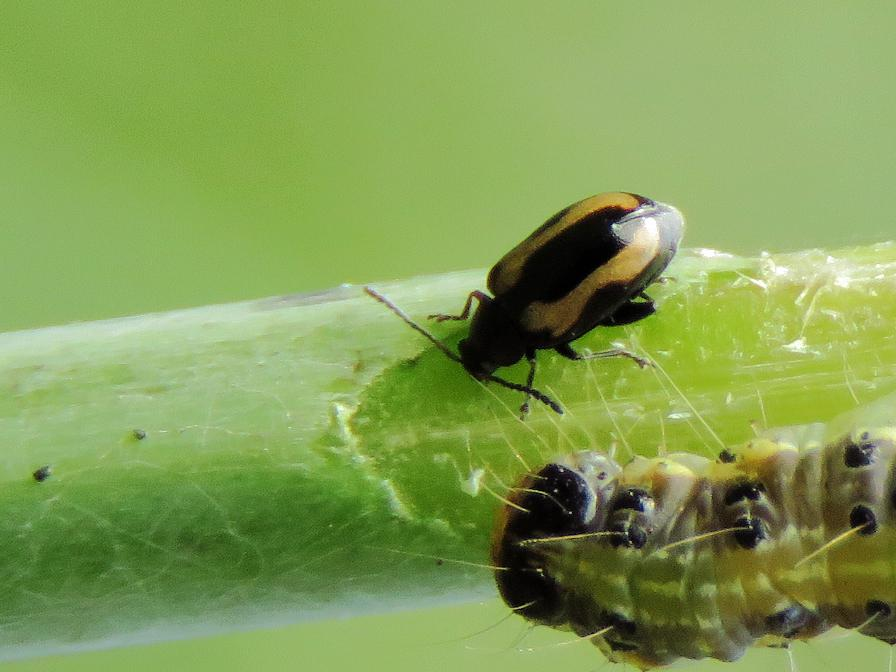flea_beetle: (347, 145, 718, 436)
